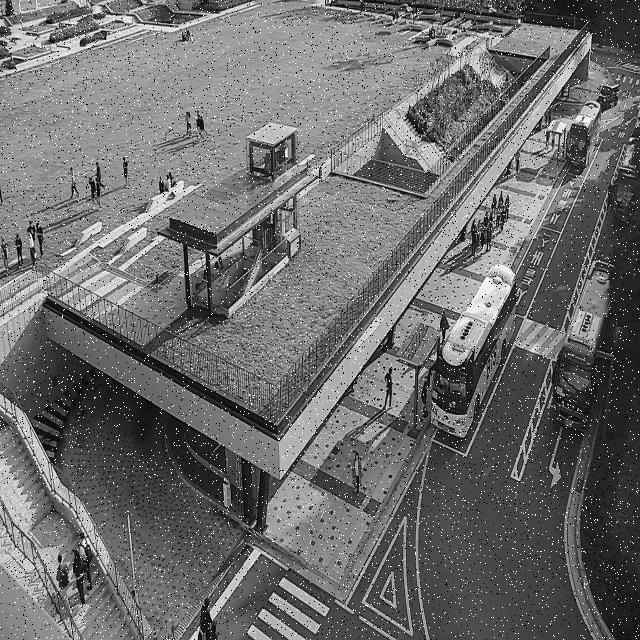queue: (414, 332, 442, 438)
